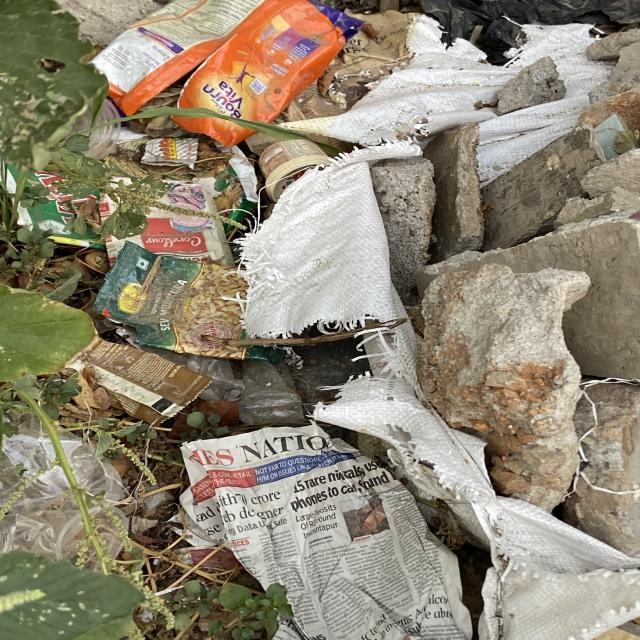giay: (179, 426, 470, 640)
giay_goi: (91, 0, 346, 121), (92, 241, 271, 360), (69, 340, 211, 424)
hop_nhua: (258, 139, 332, 202)
nhua: (240, 142, 422, 338)
